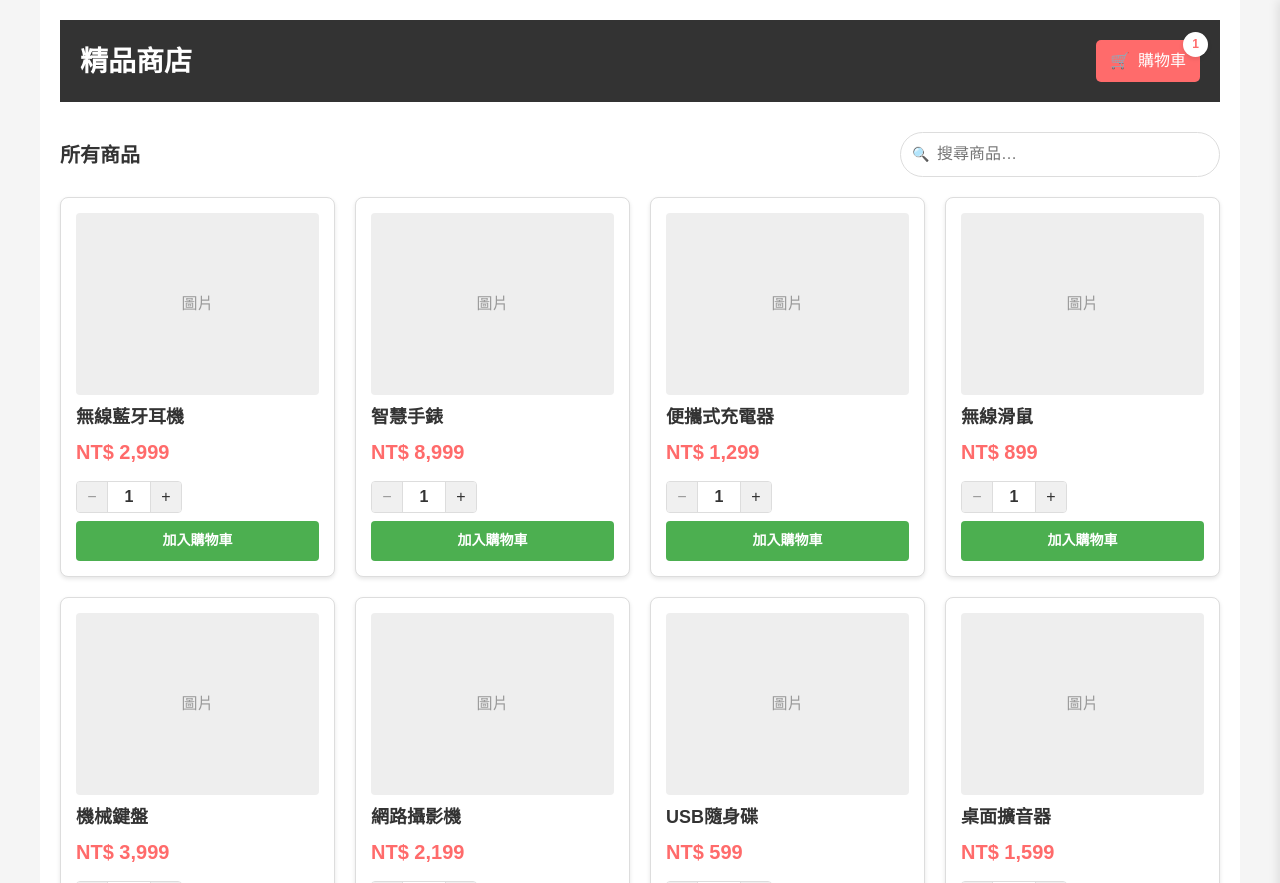
Test: Shop › lets the user type a quantity directly in the cart
Check: the heading "智慧手錶" is shown, box [371, 407, 443, 427]
Click the button with aria-label "購物車，共" at (1148, 61), box [1096, 40, 1200, 82]
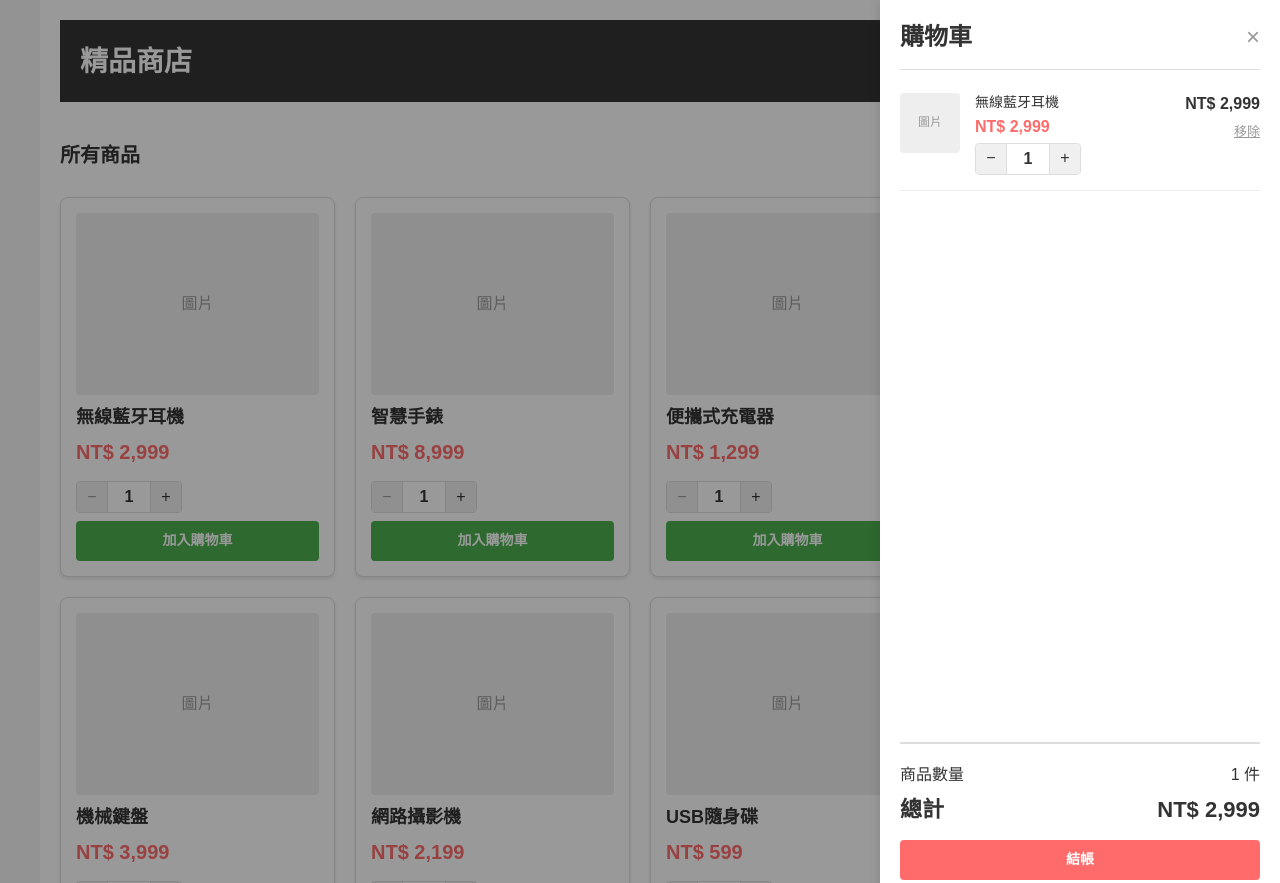
Click the field named "數量" at (1028, 159), box [1006, 144, 1050, 174]
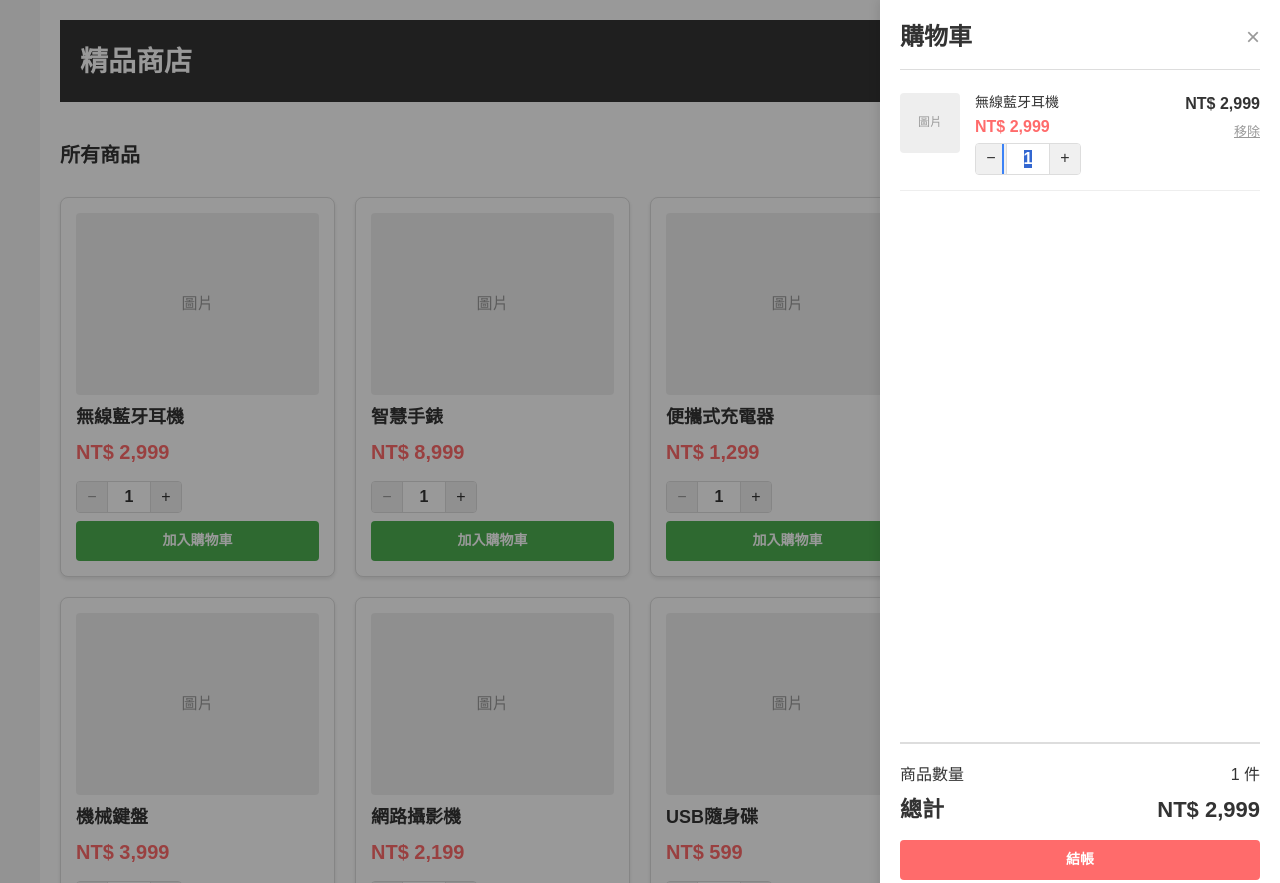
Type keys "12{Enter}"
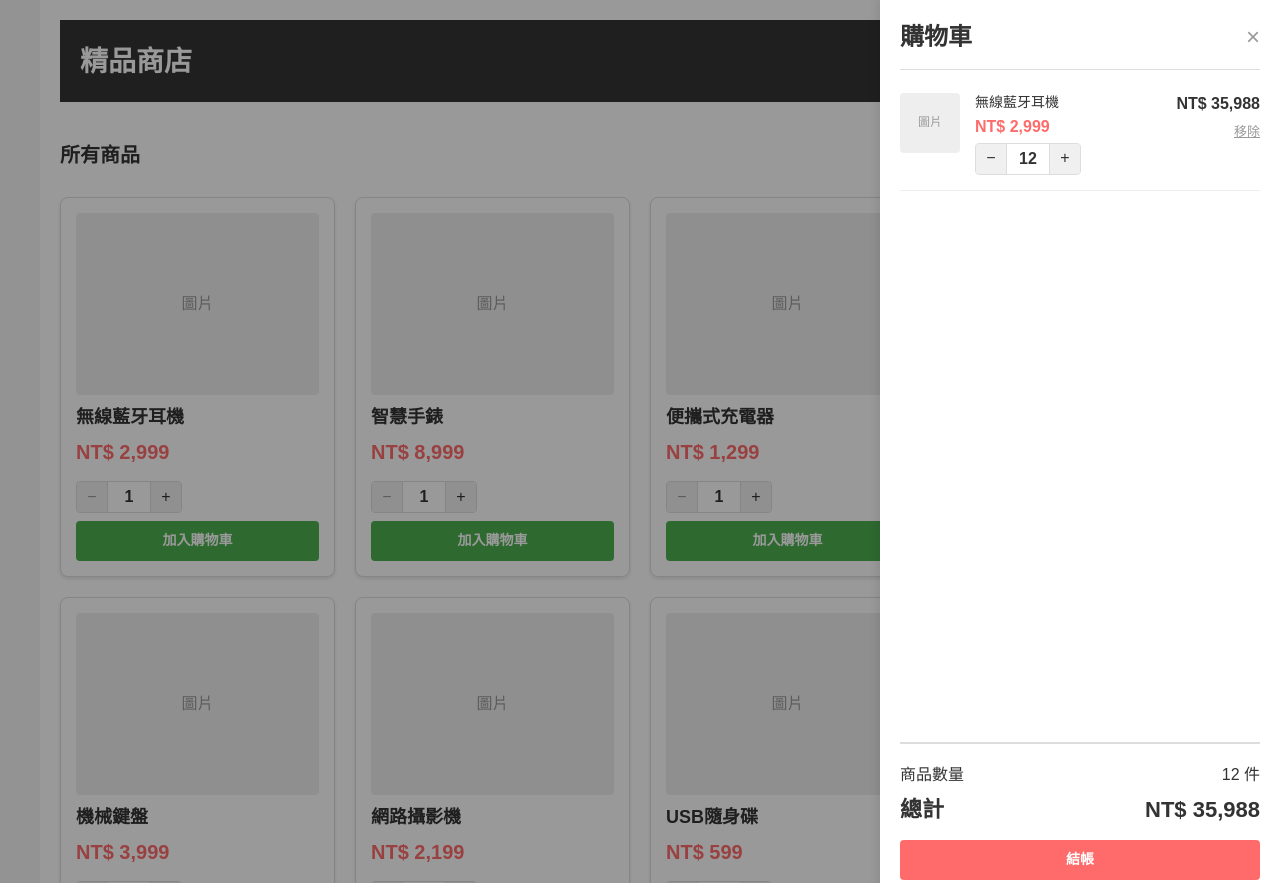
Check: the text with test id "cart-total-quantity" reads "12 件", box [1222, 764, 1260, 787]
